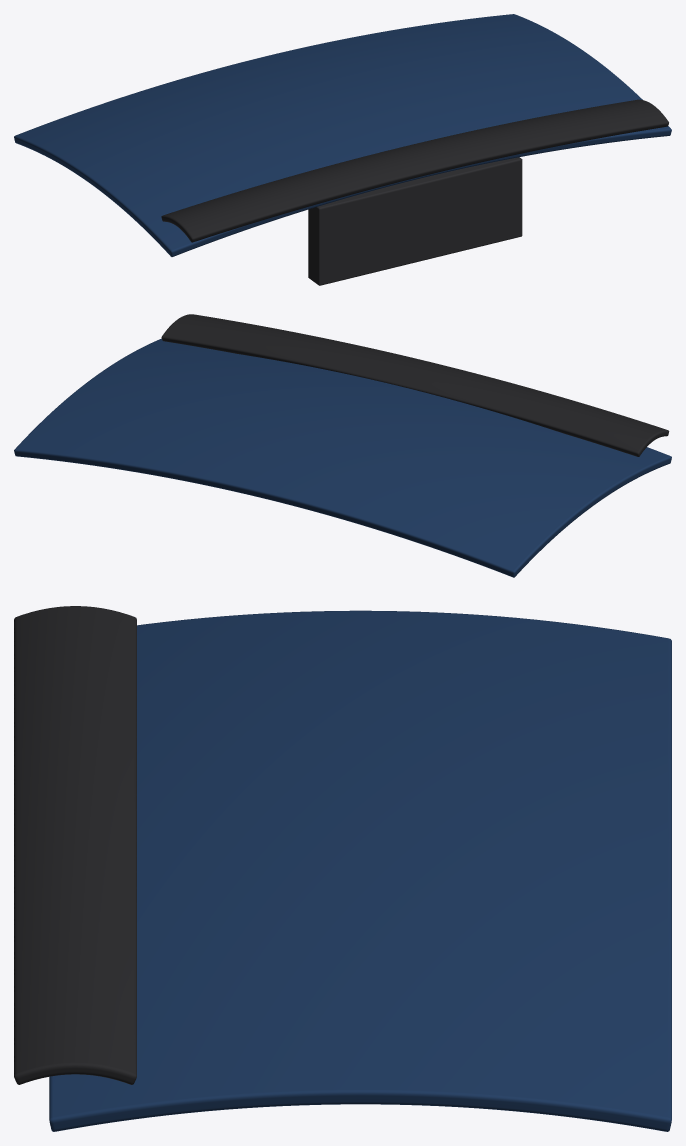
The model's file is trunk.glb.
3 views of the same model, one above another, from view 1: azimuth 30°, elevation 25°; view 2: azimuth 150°, elevation 25°; view 3: azimuth 270°, elevation 25° (orthographic). The views are drawn at different scales.
Visible parts, largest first — view 1: TRUNK_DECKLID_SHELL, TRUNK_LICENSE_CHAMBER, TRUNK_DUCKTAIL_CARBON; view 2: TRUNK_DECKLID_SHELL, TRUNK_DUCKTAIL_CARBON; view 3: TRUNK_DECKLID_SHELL, TRUNK_DUCKTAIL_CARBON.
Boxes of the visible parts, bbox=[...] form: TRUNK_DECKLID_SHELL: bbox=[14, 14, 671, 256]; TRUNK_LICENSE_CHAMBER: bbox=[308, 157, 522, 285]; TRUNK_DUCKTAIL_CARBON: bbox=[161, 99, 668, 242]; TRUNK_DECKLID_SHELL: bbox=[14, 338, 671, 577]; TRUNK_DUCKTAIL_CARBON: bbox=[161, 314, 669, 456]; TRUNK_DECKLID_SHELL: bbox=[49, 610, 671, 1131]; TRUNK_DUCKTAIL_CARBON: bbox=[14, 606, 136, 1084].
Bounding box in the file's own units: 1.28 × 0.255 × 0.7385.
